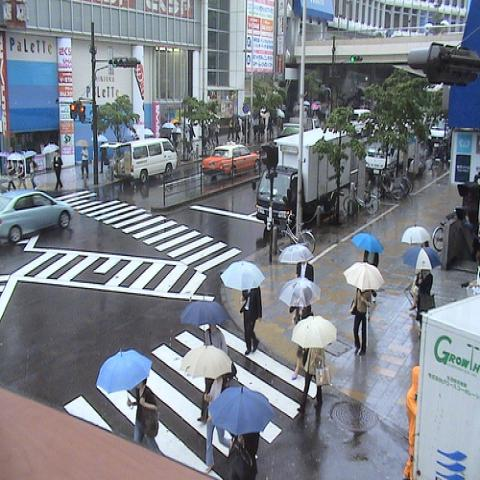car: (1, 189, 74, 243), (202, 142, 262, 182), (350, 108, 372, 138), (278, 120, 304, 138), (428, 128, 445, 151)
truck: (253, 128, 349, 228), (100, 136, 178, 184), (428, 118, 459, 141), (365, 146, 387, 170)
